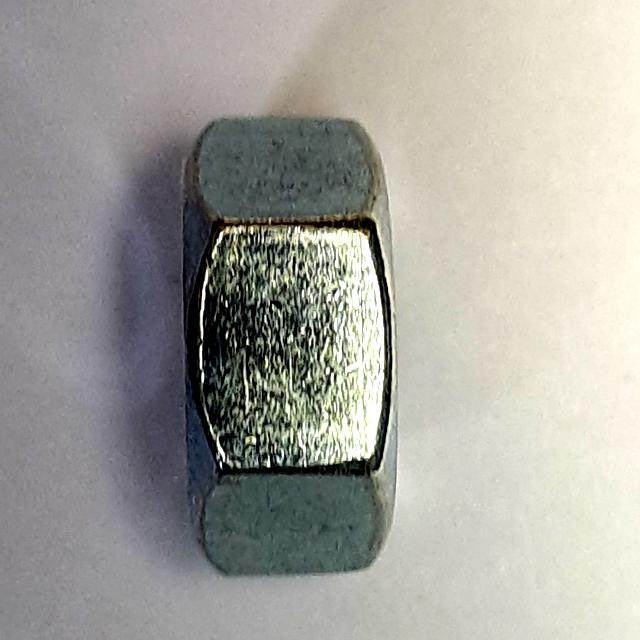Side_Excellent: (160, 104, 421, 590)
